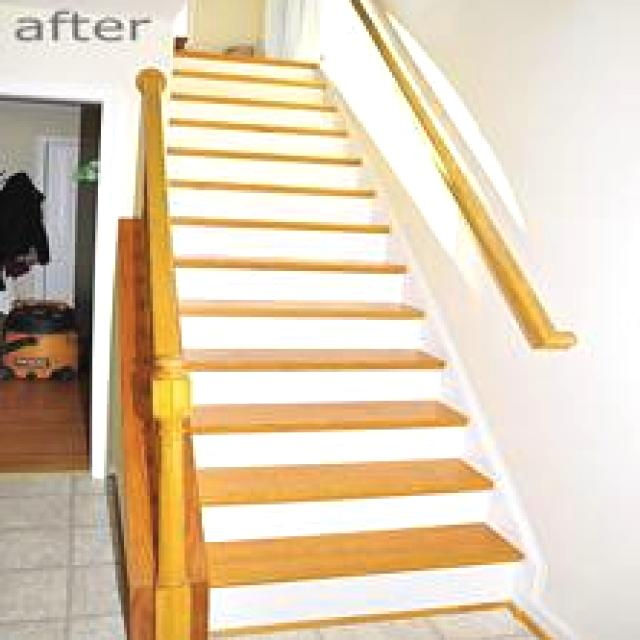upstair: (197, 465, 563, 638)
